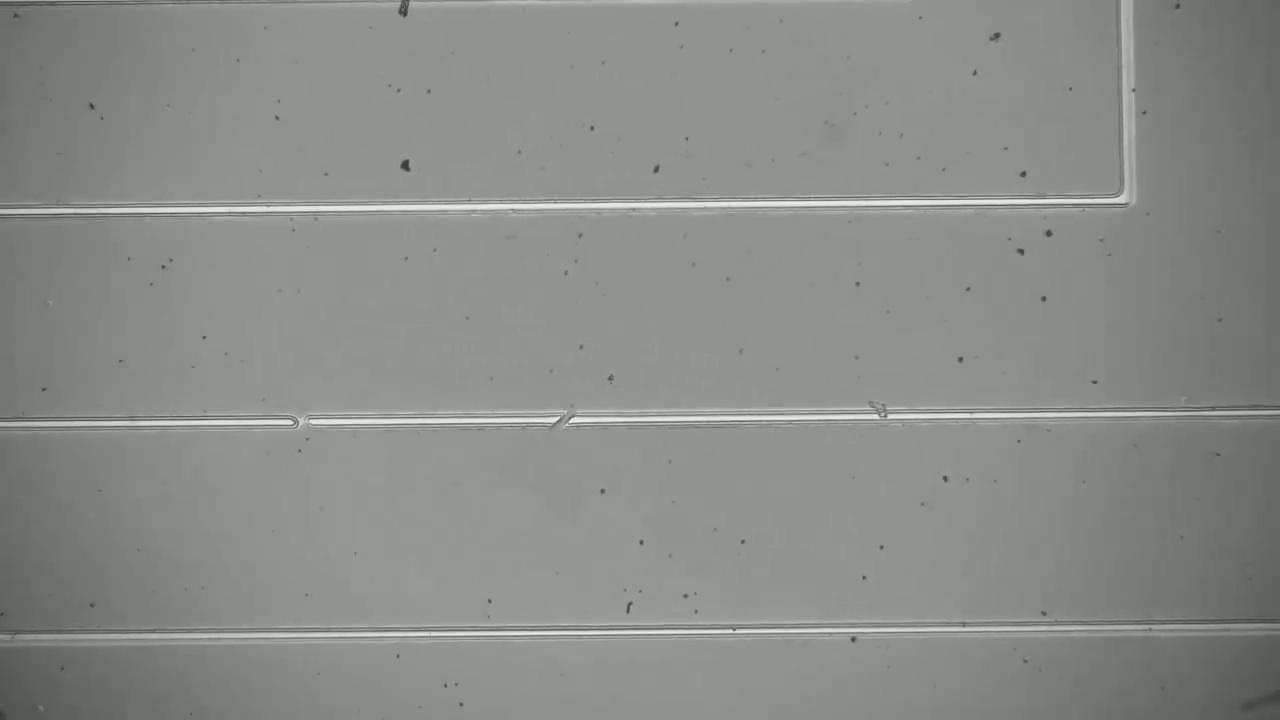open: (276, 399, 323, 442), (533, 399, 585, 436)
stains_enbedded: (856, 394, 901, 434)
